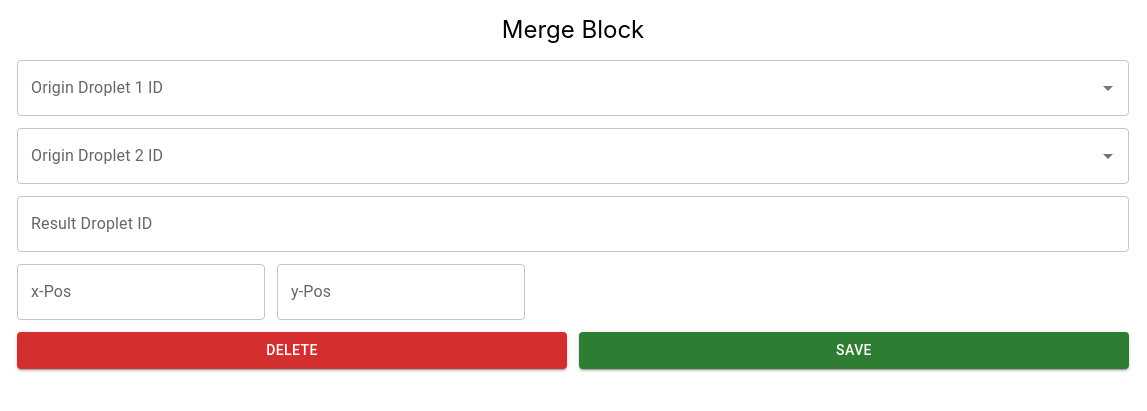
MergeBlockEditor Component › Should show error message when result droplet ID is not unique
Type "testDrop1" into the field labelled "Result Droplet ID".
click(573, 224); type("testDrop1")  # box [17, 196, 1129, 252]
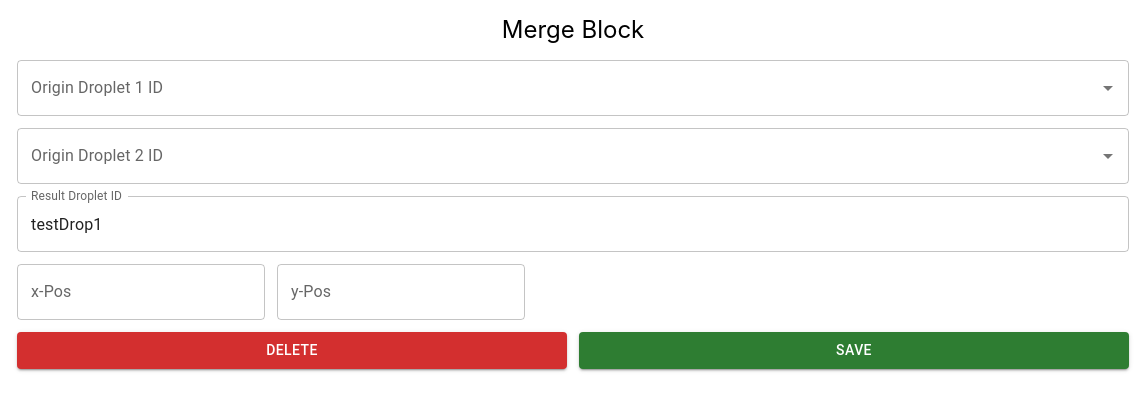
Click the button "Save".
click(854, 350)  # box [579, 332, 1129, 368]
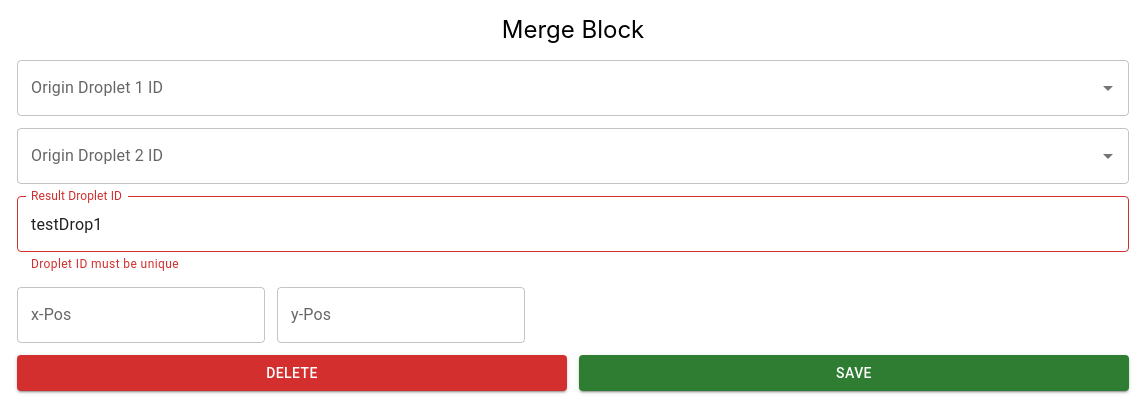
expect the text "Droplet ID must be unique" is shown: met, box [31, 257, 179, 271]
